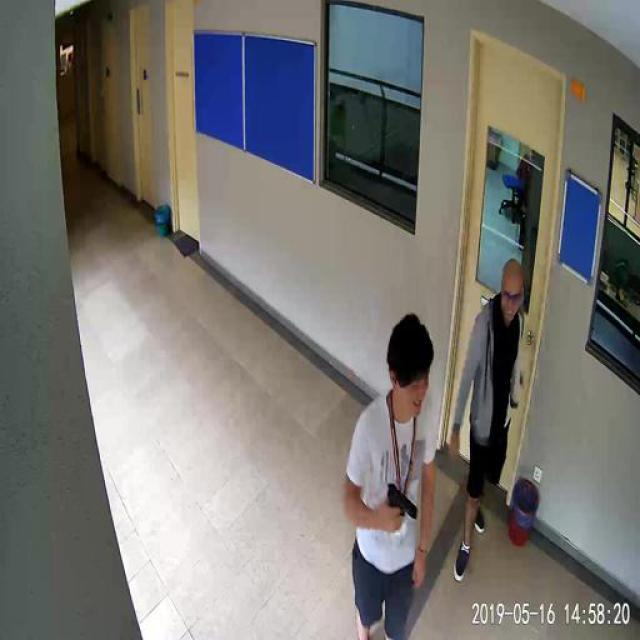Gun: (386, 481, 415, 531)
